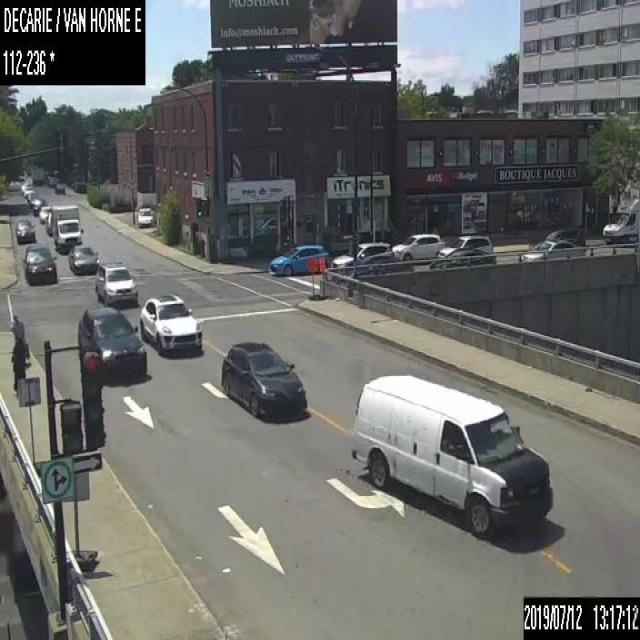construction: (58, 469, 96, 572), (16, 376, 50, 482), (318, 255, 327, 299), (306, 260, 316, 298)
pedestrian: (9, 314, 31, 389)
vehicle: (350, 371, 552, 538), (219, 340, 308, 419), (76, 308, 145, 380), (137, 296, 202, 354), (268, 243, 332, 275), (331, 240, 390, 272), (94, 262, 136, 306), (602, 195, 639, 243), (50, 203, 83, 252), (391, 232, 444, 262), (21, 244, 58, 284), (529, 224, 585, 249), (518, 238, 587, 258), (438, 234, 492, 259), (342, 255, 414, 273), (430, 248, 495, 266), (68, 243, 98, 272), (14, 218, 35, 242), (137, 206, 153, 227), (32, 197, 44, 214), (44, 209, 52, 234), (40, 204, 50, 223), (54, 180, 65, 193), (28, 192, 37, 206), (22, 185, 32, 197), (48, 175, 57, 186)
